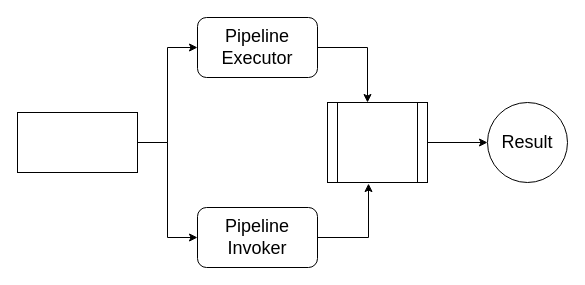
Some shapes in this 585 by 285 pixel diagram are drawn without their labels. Here are the shapes that lost their labels. From the top down, the centre of each, then its label:
At point (77, 142): "Context (Serializable)".
At point (377, 142): "Pipeline".
